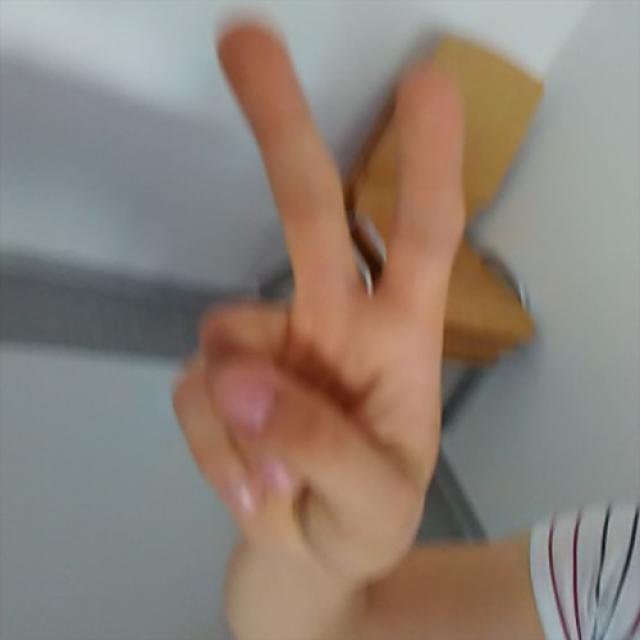scissors: (170, 19, 466, 539)
